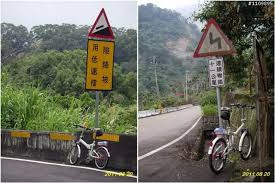Double_bend_left: (193, 18, 236, 57)
